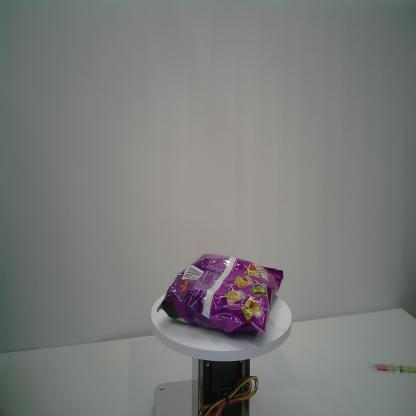Instant Noodles: (156, 252, 284, 338)
